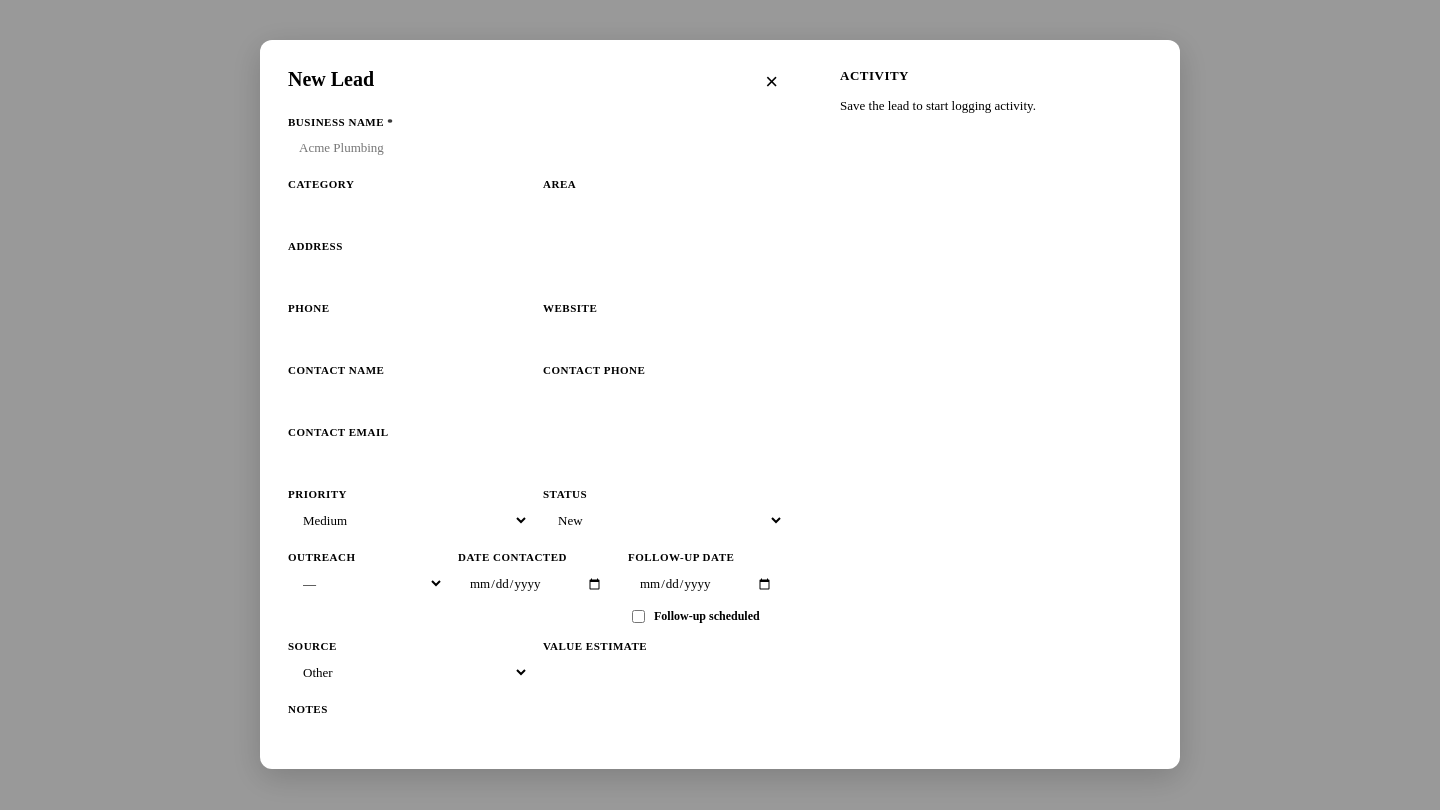
Test: shows a duplicate warning while typing a business name that matches an existing lead
Step 1. Type "Acme Plumb" into the field with placeholder "Acme Plumbing" → (536, 148), box [288,132,784,164]
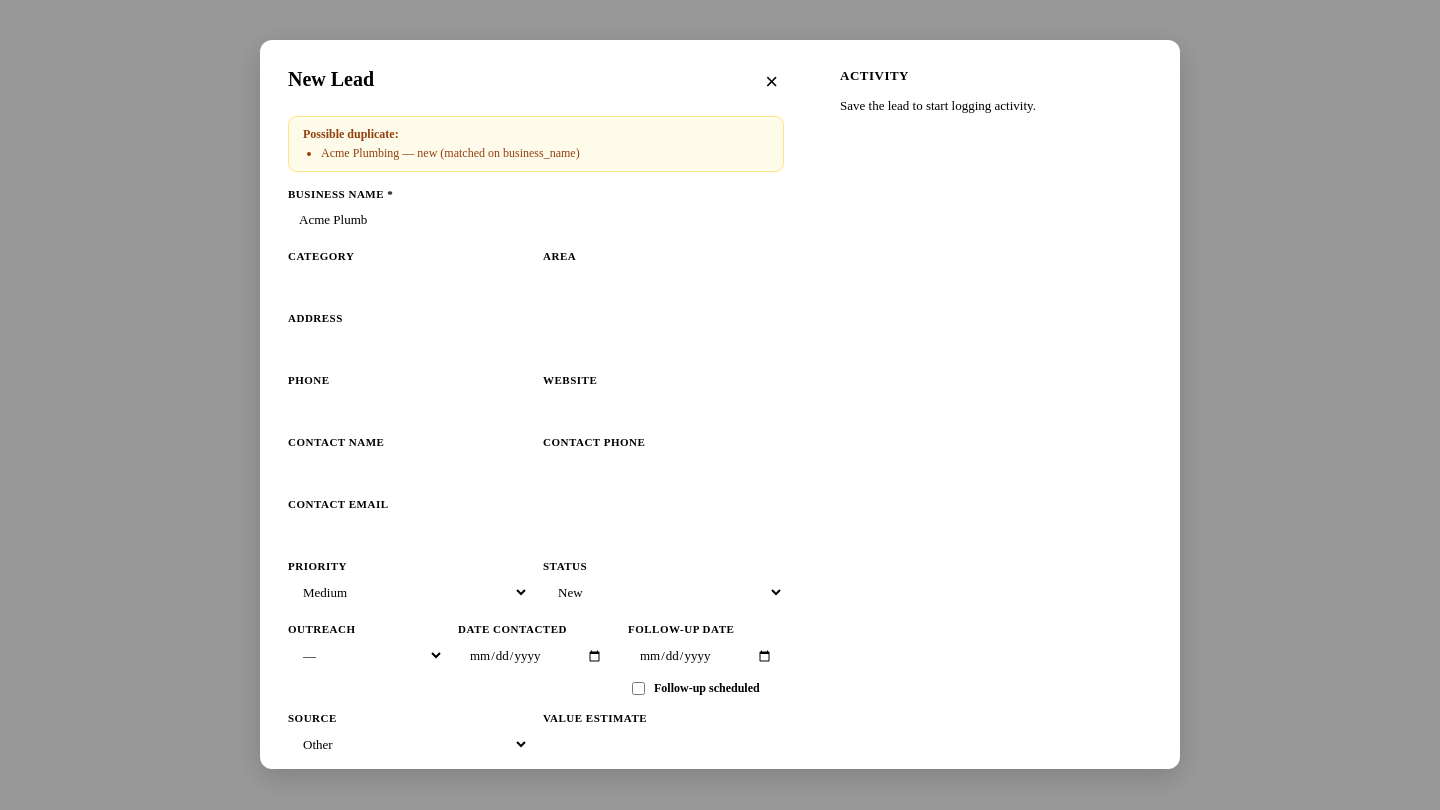
Expected: the text "Possible duplicate:" is shown, [303,127,399,141]
